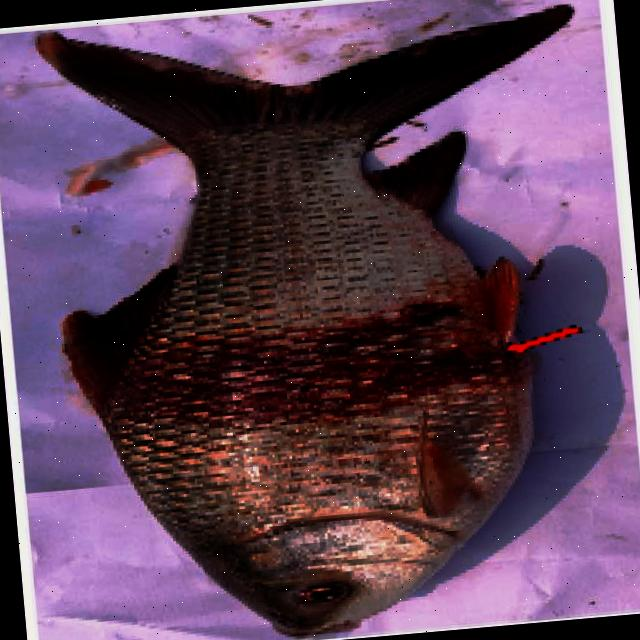Aeromonas Septicemia: (36, 5, 570, 636)
